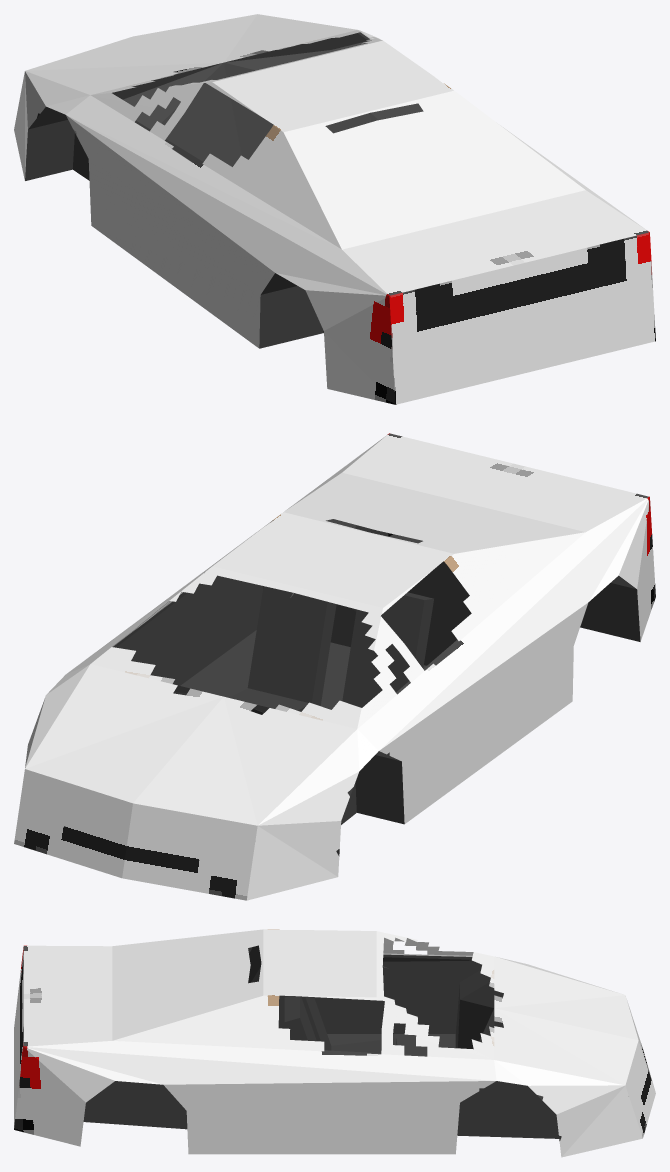
File: ferrari_f50_body.obj
The picture shows the model from 3 angles, top to bottom: view 1: azimuth 30°, elevation 25°; view 2: azimuth 150°, elevation 25°; view 3: azimuth 270°, elevation 25°; orthographic projection. The views are drawn at different scales.
Visible parts, largest first — view 1: ferrari_f50__Plane; view 2: ferrari_f50__Plane; view 3: ferrari_f50__Plane.
Boxes of the visible parts, <box> form: ferrari_f50__Plane: <box>14,14,655,404</box>; ferrari_f50__Plane: <box>14,433,655,900</box>; ferrari_f50__Plane: <box>14,929,655,1157</box>.
Bounding box in the file's own units: 2 × 1.04 × 4.46.
